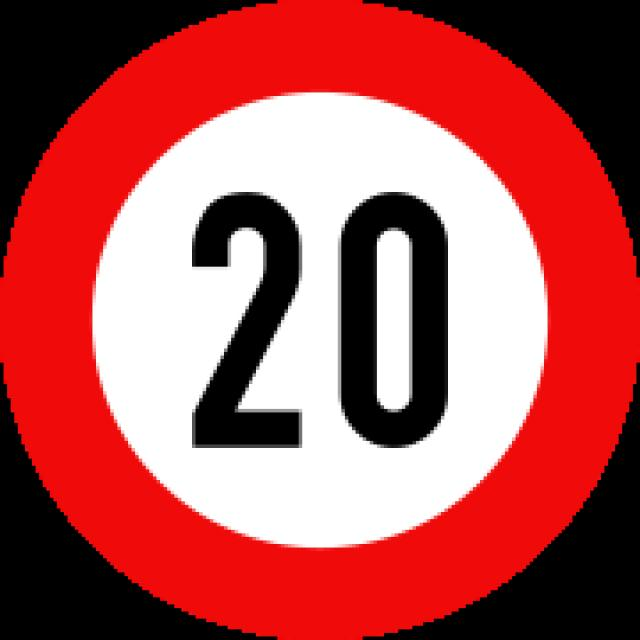Speed Limit -20-: (190, 187, 455, 458)
